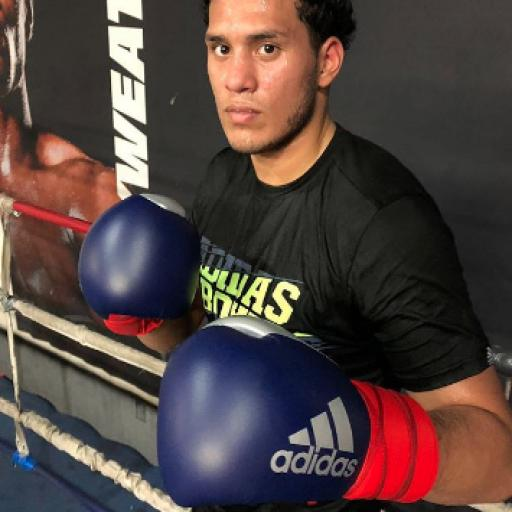boxing: (24, 13, 512, 512)
